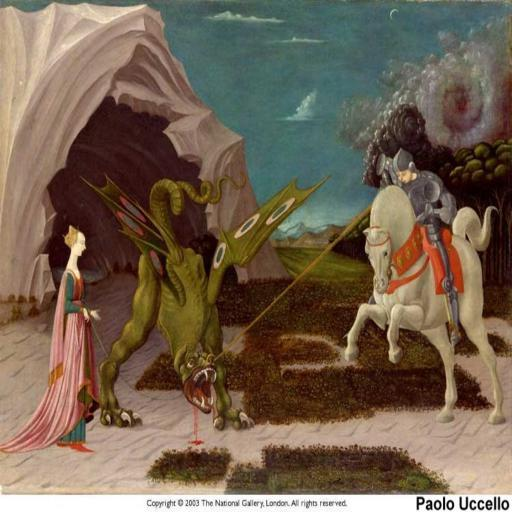Horse: (343, 186, 508, 425)
